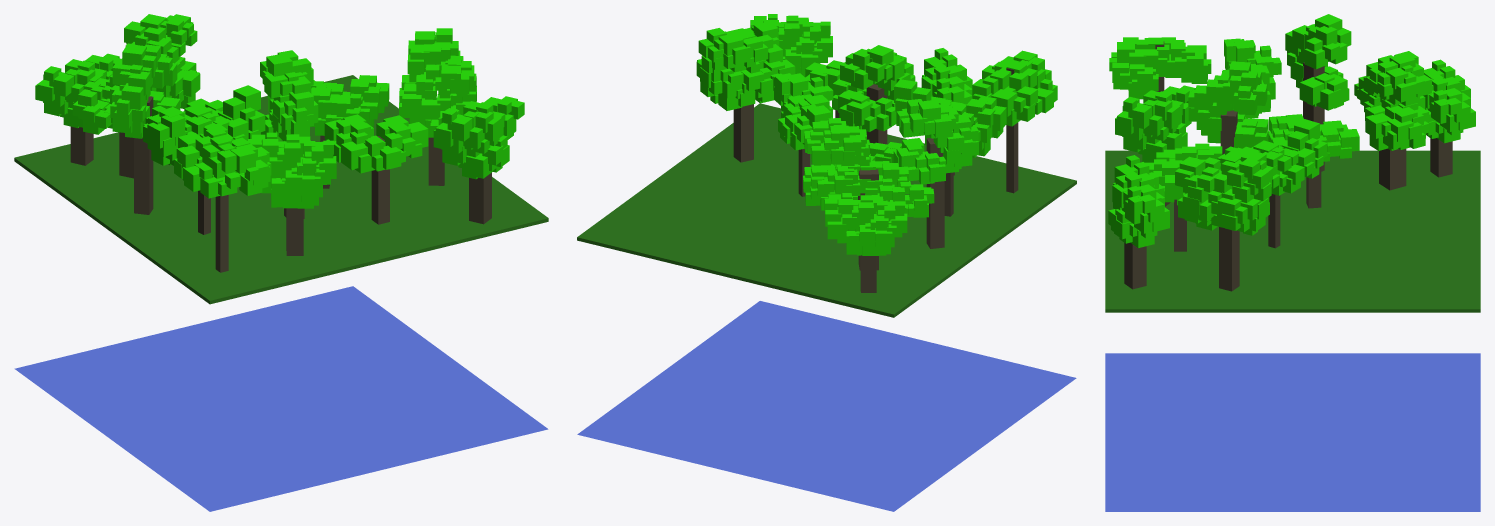
File: 27__tile.fbx
3 views of the same model, side by side, from view 1: azimuth 30°, elevation 25°; view 2: azimuth 150°, elevation 25°; view 3: azimuth 270°, elevation 25° (orthographic). The views are drawn at different scales.
Visible parts, largest first — view 1: 27__tile; view 2: 27__tile; view 3: 27__tile.
Boxes of the visible parts, bbox=[...] form: 27__tile: bbox=[14, 14, 548, 511]; 27__tile: bbox=[577, 14, 1076, 511]; 27__tile: bbox=[1105, 14, 1480, 511].
Bounding box in the file's own units: 200 × 207 × 200.
